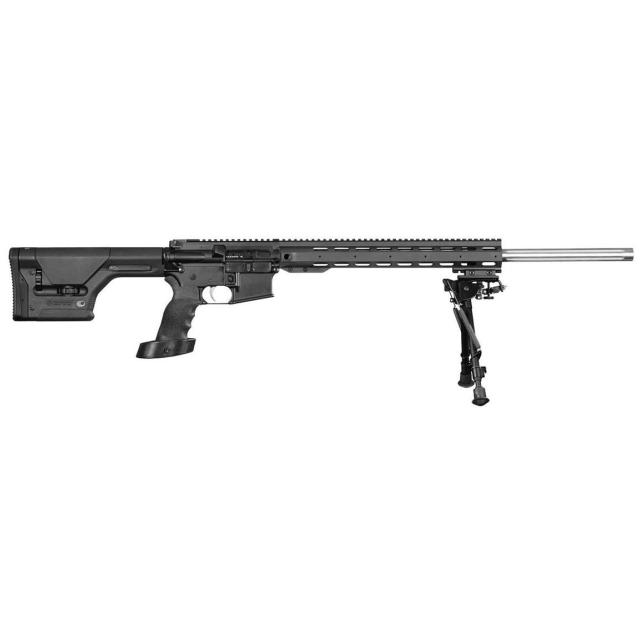Rifle: (9, 238, 636, 360)
